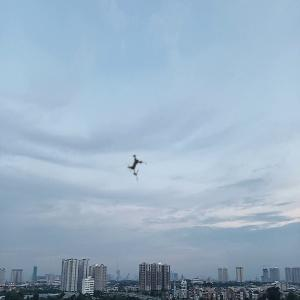drone: (114, 144, 160, 190)
